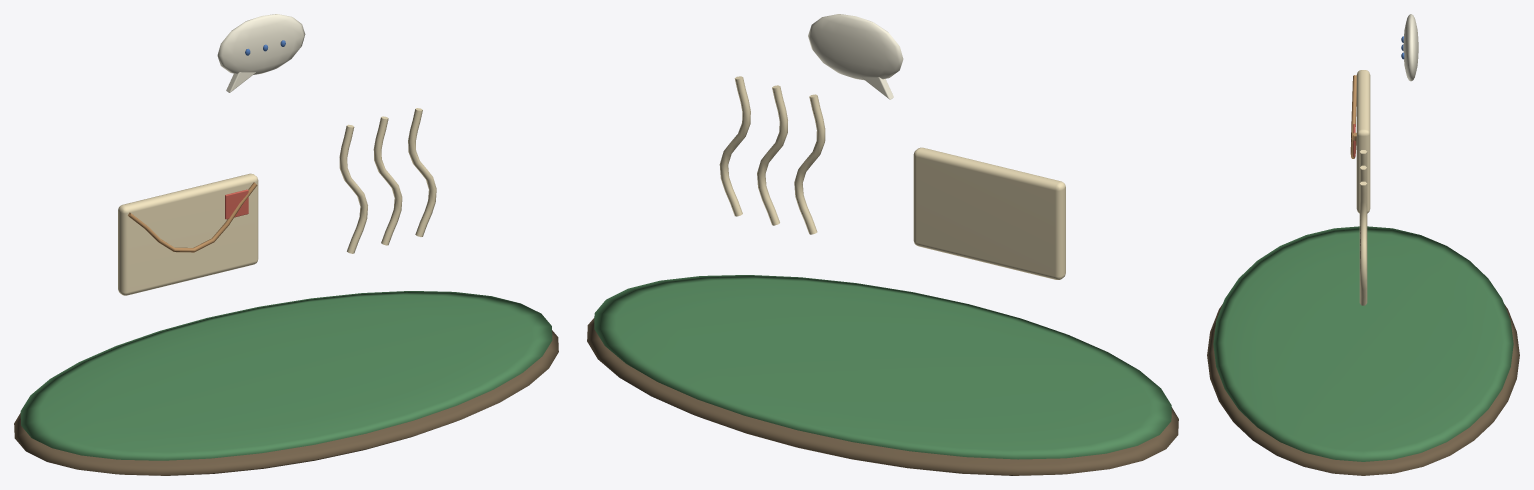
The model's file is complete-third-trusted-breath-message.glb.
The picture shows the model from 3 angles, left to right: view 1: azimuth 30°, elevation 25°; view 2: azimuth 150°, elevation 25°; view 3: azimuth 270°, elevation 25°; orthographic projection. The views are drawn at different scales.
Visible parts, largest first — view 1: complete-third-trusted-breath-message_surface_01, complete-third-trusted-breath-message_surface_02, complete-third-trusted-breath-message_surface_00, complete-third-trusted-breath-message_surface_05, complete-third-trusted-breath-message_surface_03; view 2: complete-third-trusted-breath-message_surface_01, complete-third-trusted-breath-message_surface_02, complete-third-trusted-breath-message_surface_00, complete-third-trusted-breath-message_surface_05; view 3: complete-third-trusted-breath-message_surface_01, complete-third-trusted-breath-message_surface_00, complete-third-trusted-breath-message_surface_02, complete-third-trusted-breath-message_surface_05, complete-third-trusted-breath-message_surface_03.
Part boxes in pixels (left/top/right/bottom): complete-third-trusted-breath-message_surface_01: left=20, top=291, right=552, bottom=460; complete-third-trusted-breath-message_surface_02: left=118, top=108, right=436, bottom=295; complete-third-trusted-breath-message_surface_00: left=14, top=330, right=558, bottom=475; complete-third-trusted-breath-message_surface_05: left=217, top=14, right=305, bottom=92; complete-third-trusted-breath-message_surface_03: left=128, top=182, right=257, bottom=252; complete-third-trusted-breath-message_surface_01: left=594, top=275, right=1171, bottom=459; complete-third-trusted-breath-message_surface_02: left=719, top=76, right=1065, bottom=279; complete-third-trusted-breath-message_surface_00: left=587, top=318, right=1178, bottom=475; complete-third-trusted-breath-message_surface_05: left=808, top=14, right=903, bottom=99; complete-third-trusted-breath-message_surface_01: left=1213, top=226, right=1513, bottom=461; complete-third-trusted-breath-message_surface_00: left=1207, top=304, right=1519, bottom=475; complete-third-trusted-breath-message_surface_02: left=1356, top=70, right=1370, bottom=305; complete-third-trusted-breath-message_surface_05: left=1403, top=14, right=1418, bottom=81; complete-third-trusted-breath-message_surface_03: left=1350, top=75, right=1356, bottom=158.
Size of the model in its own units: 4.56 by 3.08 by 2.5.
